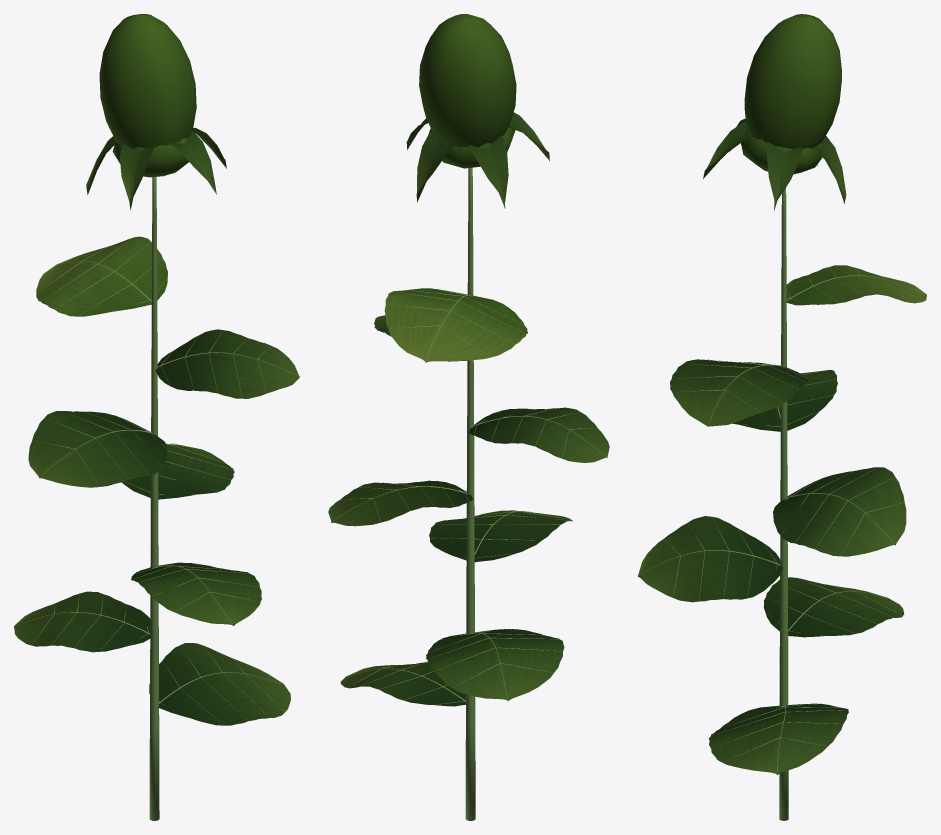
File: sunflower-07.glb
3 renders of one model, left to right at view 1: azimuth 30°, elevation 25°; view 2: azimuth 150°, elevation 25°; view 3: azimuth 270°, elevation 25°, orthographic.
Parts seen in each view (by area): view 1: sunflower_stage_07_leaf_veins.012, sunflower_stage_07_young_leaf.012, sunflower_stage_07_stem_fibres.012, sunflower_stage_07_raised_midveins.012; view 2: sunflower_stage_07_leaf_veins.012, sunflower_stage_07_young_leaf.012, sunflower_stage_07_stem_fibres.012, sunflower_stage_07_raised_midveins.012; view 3: sunflower_stage_07_leaf_veins.012, sunflower_stage_07_young_leaf.012, sunflower_stage_07_stem_fibres.012, sunflower_stage_07_raised_midveins.012.
Boxes of the visible parts, x1=… form: sunflower_stage_07_leaf_veins.012: x1=14, y1=127, x2=299, y2=725; sunflower_stage_07_young_leaf.012: x1=36, y1=14, x2=196, y2=316; sunflower_stage_07_stem_fibres.012: x1=149, y1=177, x2=159, y2=820; sunflower_stage_07_raised_midveins.012: x1=14, y1=237, x2=299, y2=724; sunflower_stage_07_leaf_veins.012: x1=328, y1=112, x2=609, y2=706; sunflower_stage_07_young_leaf.012: x1=384, y1=14, x2=527, y2=362; sunflower_stage_07_stem_fibres.012: x1=465, y1=167, x2=475, y2=820; sunflower_stage_07_raised_midveins.012: x1=332, y1=288, x2=606, y2=704; sunflower_stage_07_leaf_veins.012: x1=638, y1=118, x2=906, y2=774; sunflower_stage_07_young_leaf.012: x1=741, y1=14, x2=926, y2=305; sunflower_stage_07_stem_fibres.012: x1=779, y1=188, x2=788, y2=820; sunflower_stage_07_raised_midveins.012: x1=639, y1=267, x2=926, y2=772.
Bounding box in the file's own units: 0.2312 × 0.7009 × 0.2295.
Materials: 4 (2 with a texture image).
